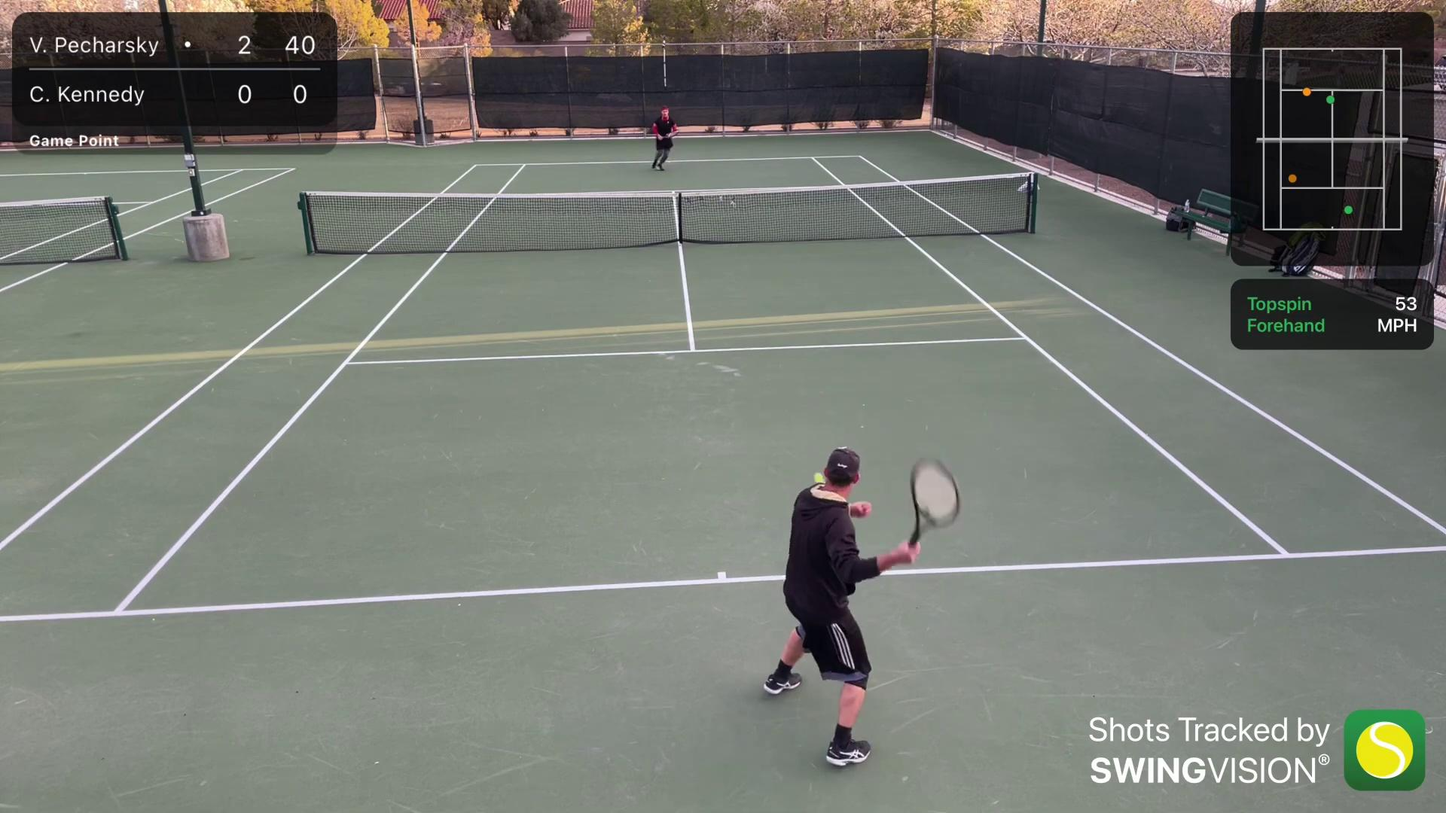ball: (811, 469, 829, 486)
